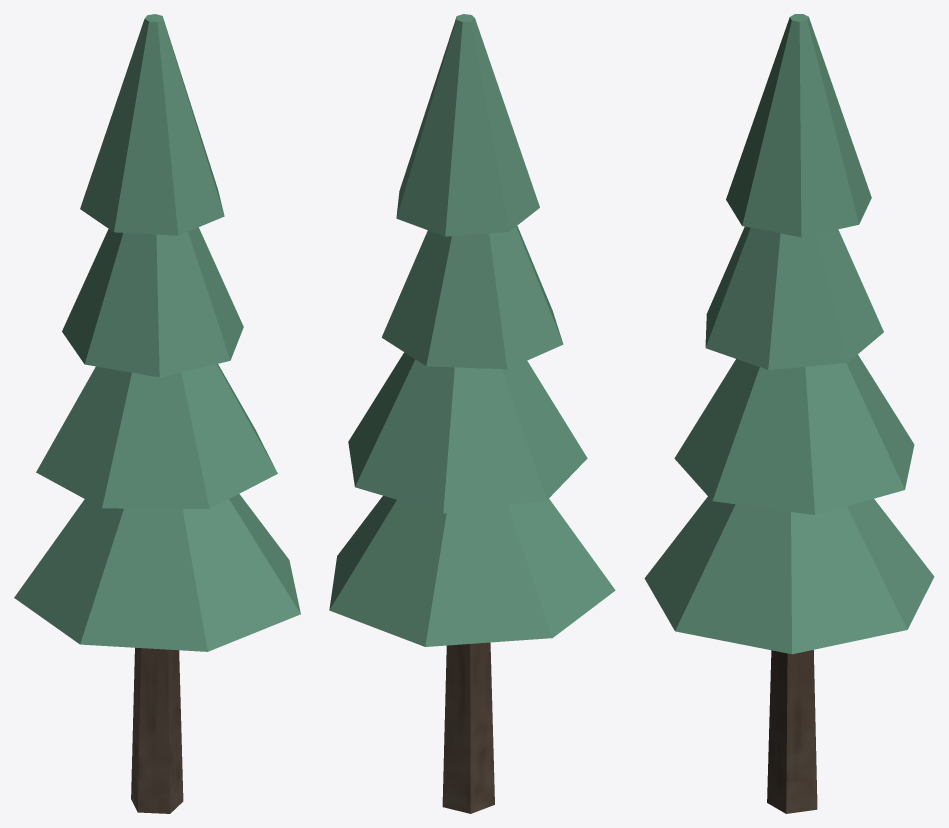
Rendered from arv_pinheiro_1.glb.
The picture shows the model from 3 angles, left to right: view 1: azimuth 30°, elevation 25°; view 2: azimuth 150°, elevation 25°; view 3: azimuth 270°, elevation 25°; orthographic projection.
Visible parts, largest first — view 1: arv_pinheiro_1; view 2: arv_pinheiro_1; view 3: arv_pinheiro_1.
Part boxes in pixels (<box>): arv_pinheiro_1: <box>14,14,300,813</box>; arv_pinheiro_1: <box>329,14,615,813</box>; arv_pinheiro_1: <box>644,14,934,813</box>.
Bounding box in the file's own units: 0.8699 × 2.66 × 0.8893.
2 materials, 1 textured.
